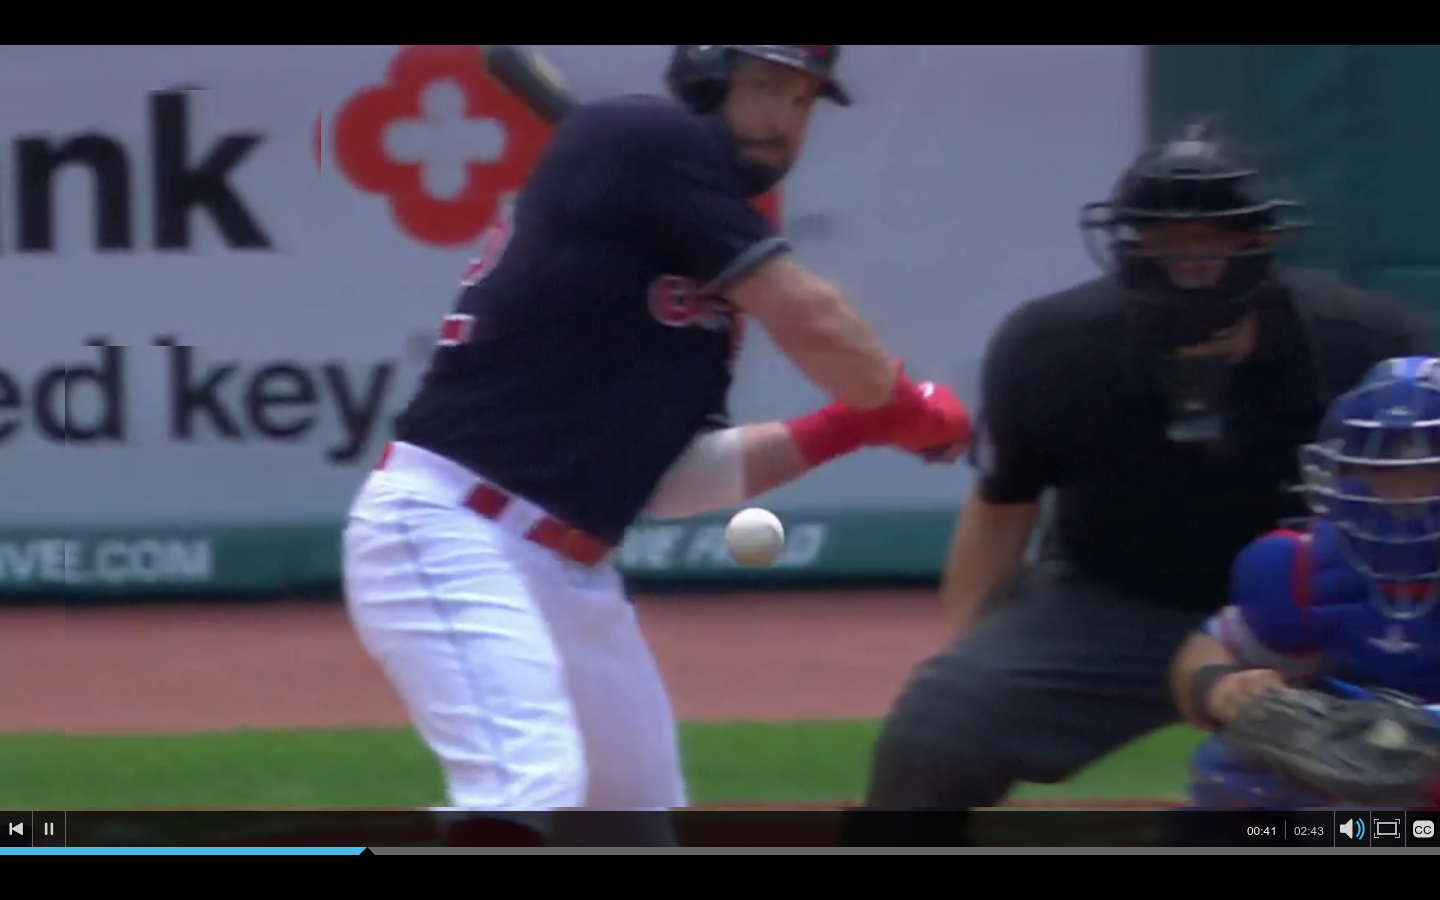baseball: (722, 497, 790, 579)
baseball bat: (485, 39, 585, 132)
baseball player: (327, 43, 979, 814), (1162, 354, 1440, 806)
referee: (855, 118, 1440, 809)
